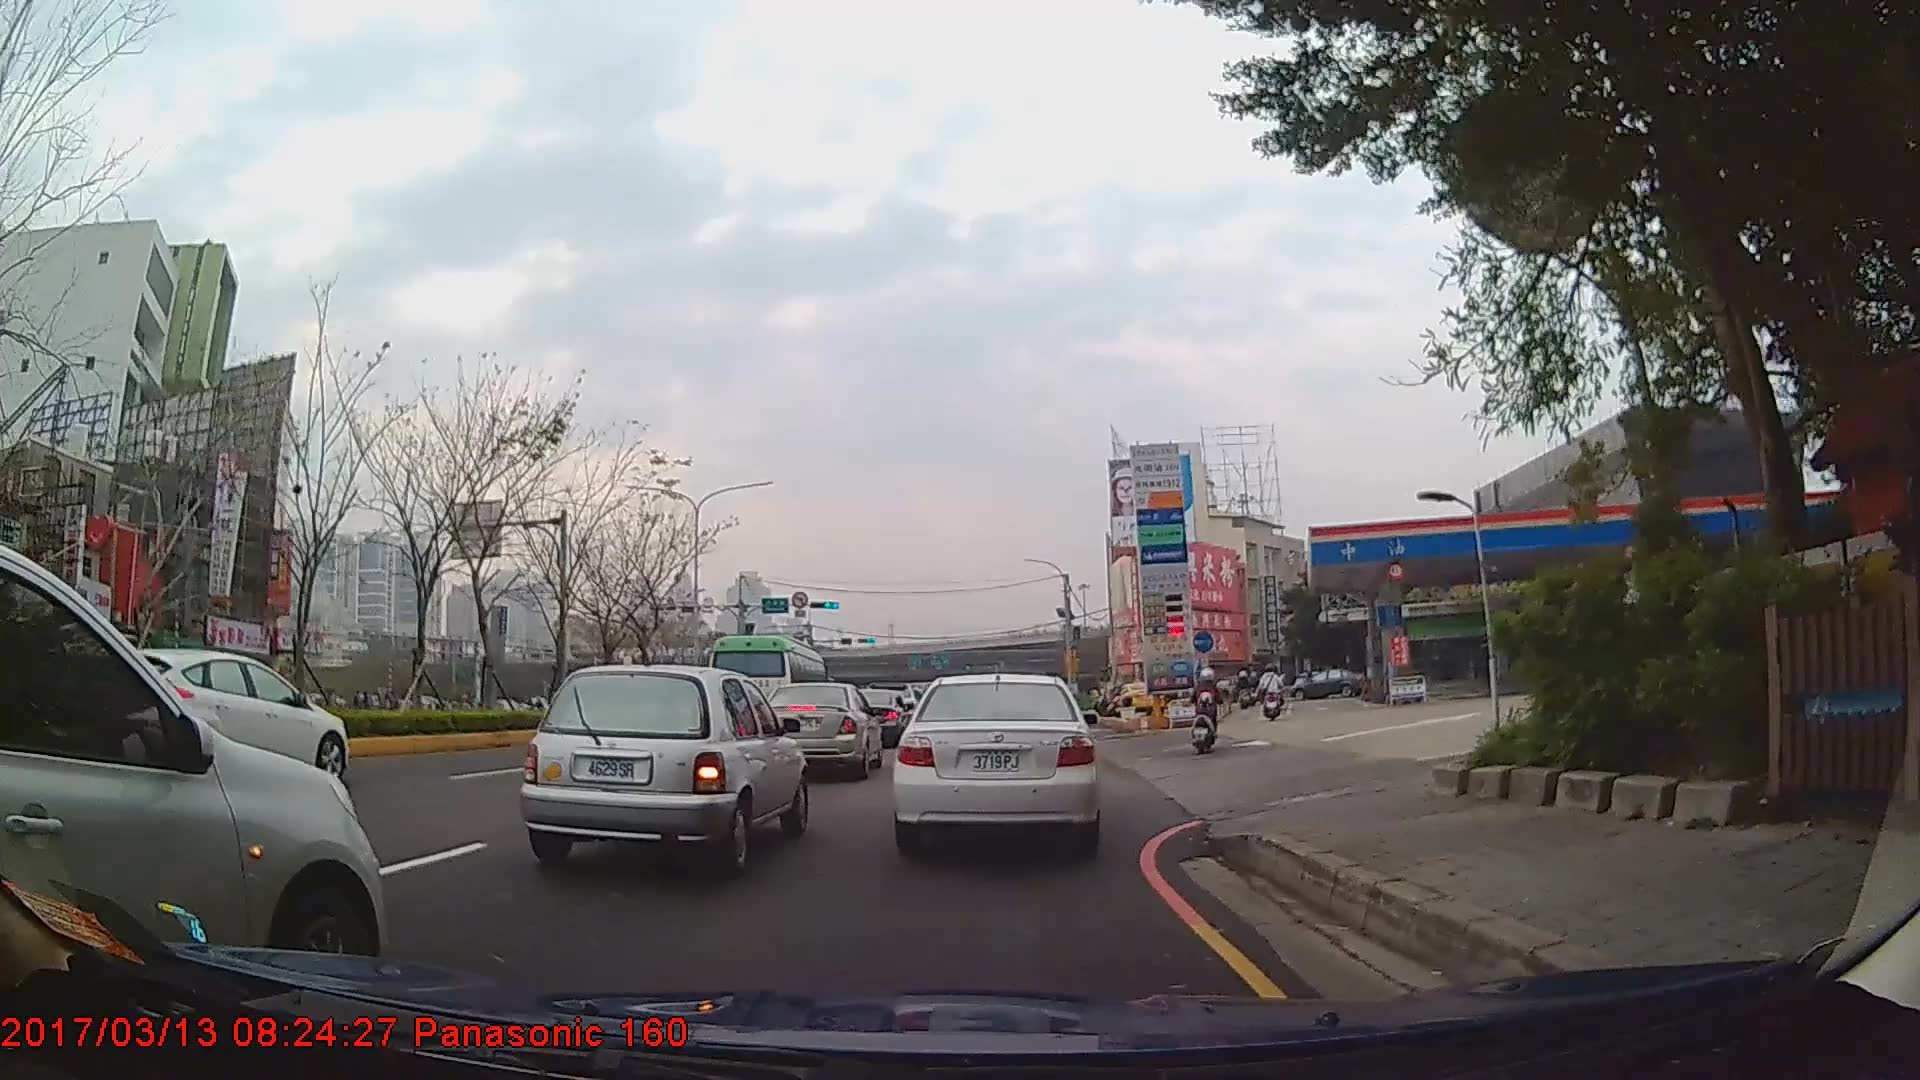rider: (1190, 665, 1223, 754), (1257, 663, 1286, 721)
vehicle: (0, 544, 390, 1001), (515, 658, 811, 874), (891, 670, 1099, 853), (106, 643, 346, 776), (754, 681, 882, 778), (707, 632, 828, 732), (1291, 668, 1364, 699), (1116, 681, 1160, 712)
